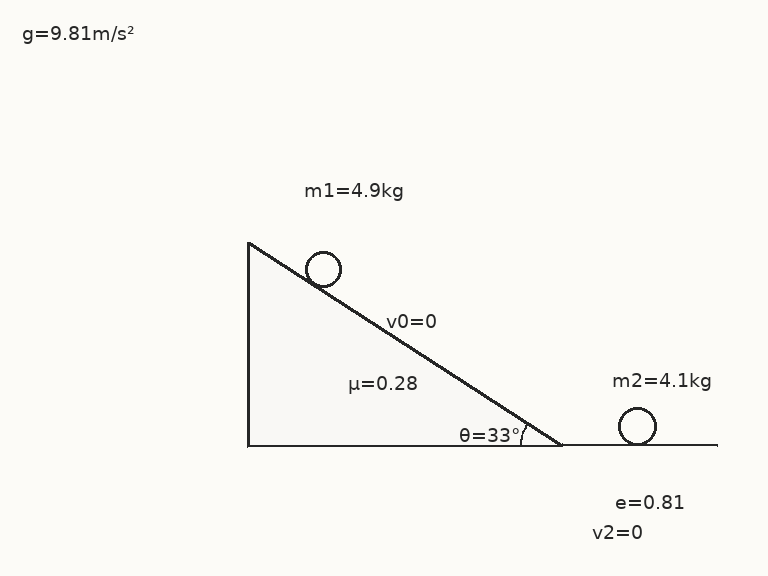ball: (616, 405, 658, 447), (303, 249, 343, 289)
ramp: (246, 240, 563, 447)
